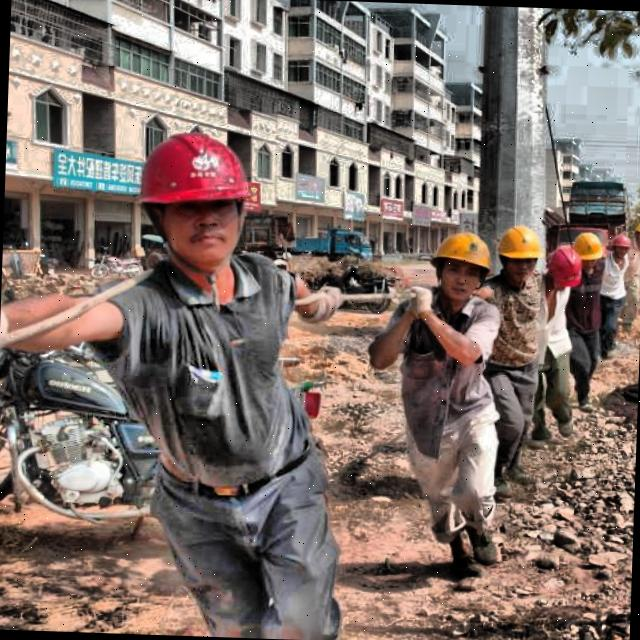helmet: (128, 122, 265, 281), (427, 224, 498, 304), (492, 218, 542, 294), (548, 246, 582, 296), (568, 232, 608, 273), (605, 230, 634, 265)
